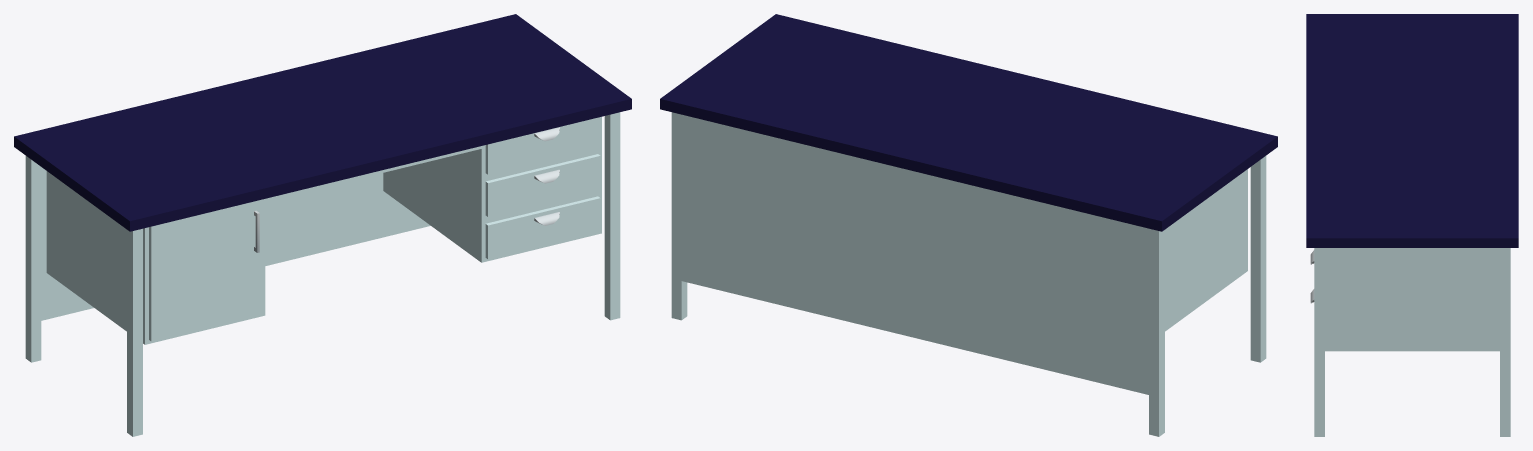
File: Desk.fbx
3 renders of one model, left to right at view 1: azimuth 30°, elevation 25°; view 2: azimuth 150°, elevation 25°; view 3: azimuth 270°, elevation 25°, orthographic. The views are drawn at different scales.
Parts seen in each view (by area): view 1: Lab_Table:Lab_table; view 2: Lab_Table:Lab_table; view 3: Lab_Table:Lab_table.
Part boxes in pixels (x1=…): Lab_Table:Lab_table: x1=14, y1=14, x2=631, y2=436; Lab_Table:Lab_table: x1=660, y1=14, x2=1277, y2=436; Lab_Table:Lab_table: x1=1306, y1=14, x2=1518, y2=436.
Bounding box in the file's own units: 2 × 0.84 × 0.8.
